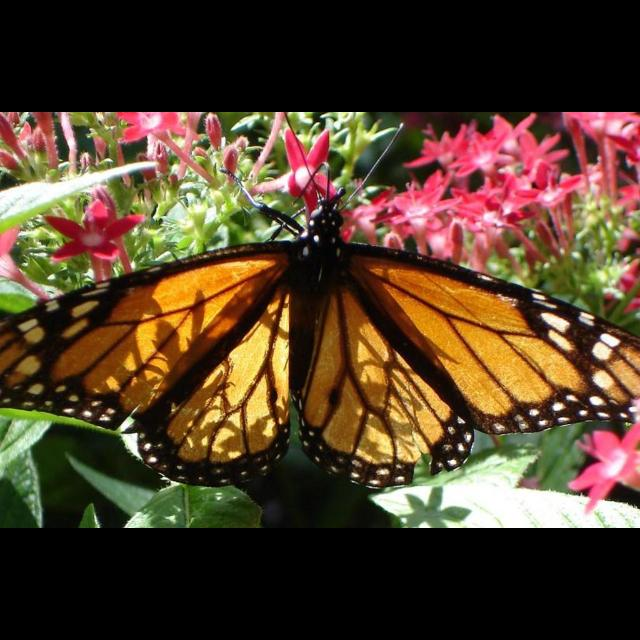Flower: (339, 112, 639, 264), (566, 422, 638, 514), (43, 197, 137, 259), (282, 129, 338, 219), (114, 112, 194, 144), (1, 227, 22, 285)
